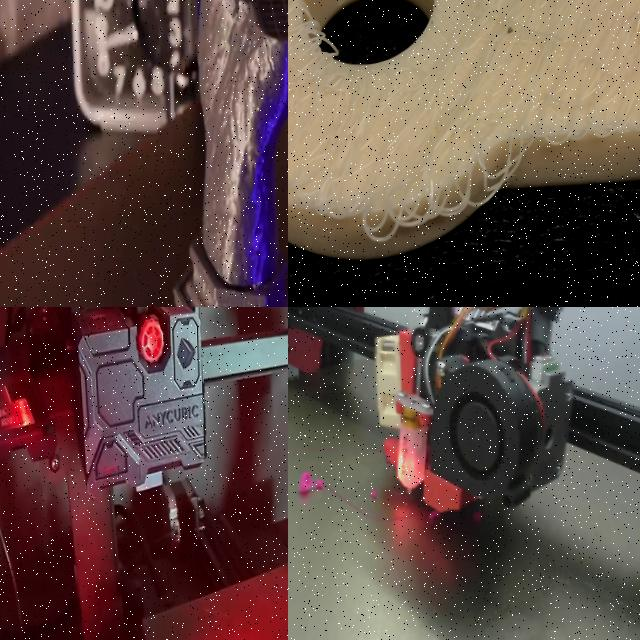spaghetti: (288, 0, 640, 253), (299, 472, 414, 522), (472, 509, 482, 524), (428, 510, 440, 520), (370, 489, 376, 499)
